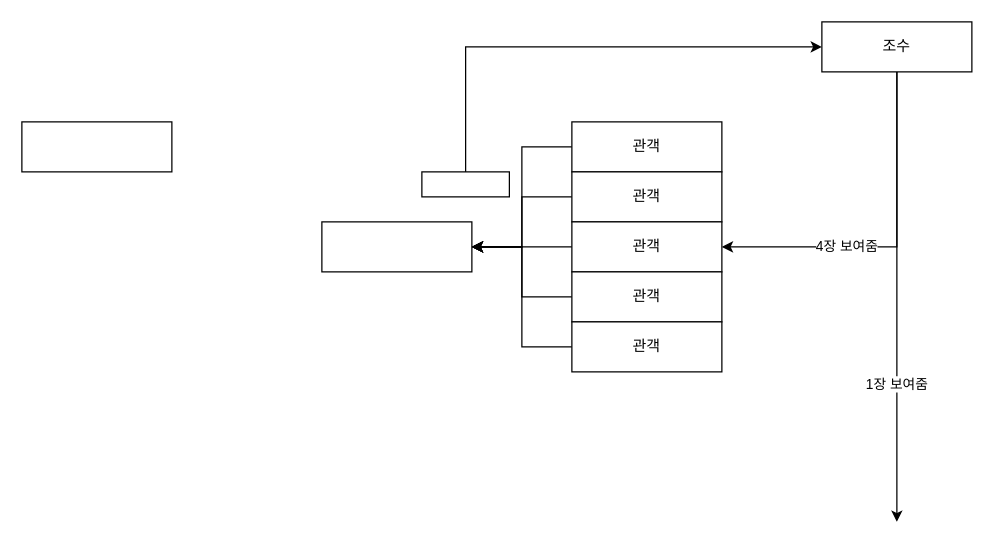
Some shapes in this 994 by 554 pixel diagram are drawn without their labels. Here are the shapes that lost their labels. From the top down, the centre of each, then its label:
[96,146]: 마술사
[465,184]: 5장
[396,246]: 52장의 카드
